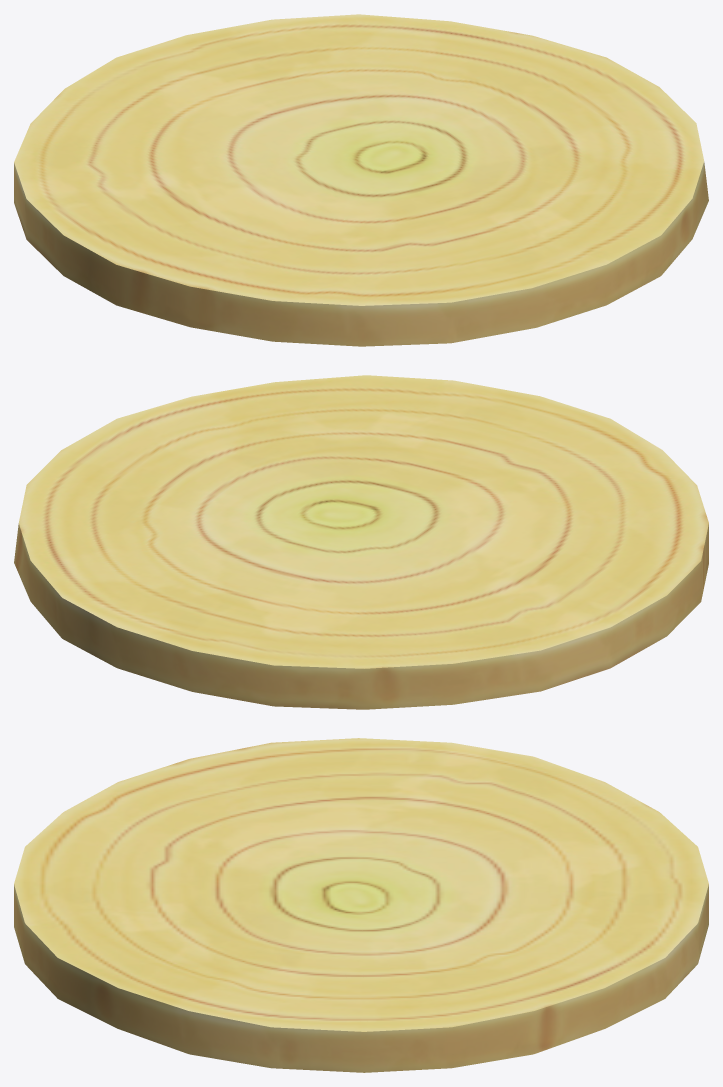
The model's file is sogan_dilimlenmis 1.fbx.
3 renders of one model, top to bottom at view 1: azimuth 30°, elevation 25°; view 2: azimuth 150°, elevation 25°; view 3: azimuth 270°, elevation 25°, orthographic.
Visible parts, largest first — view 1: sogan_dilim; view 2: sogan_dilim; view 3: sogan_dilim.
Part boxes in pixels (bbox=[...]): sogan_dilim: bbox=[14, 14, 708, 346]; sogan_dilim: bbox=[14, 375, 708, 709]; sogan_dilim: bbox=[14, 738, 708, 1072].
Bounding box in the file's own units: 14.45 × 0.9379 × 14.44.
